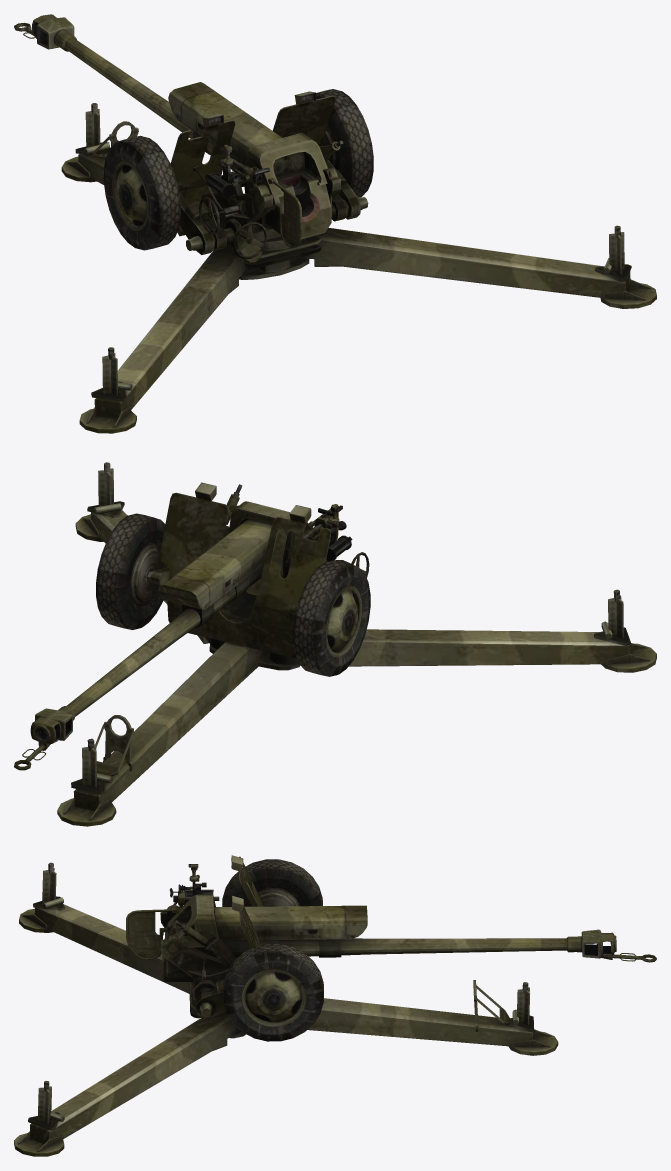
3 renders of one model, top to bottom at view 1: azimuth 30°, elevation 25°; view 2: azimuth 150°, elevation 25°; view 3: azimuth 270°, elevation 25°, orthographic. The views are drawn at different scales.
Parts seen in each view (by area): view 1: Object_2; view 2: Object_2; view 3: Object_2.
Part boxes in pixels (x1=…): Object_2: x1=14, y1=14, x2=656, y2=433; Object_2: x1=14, y1=462, x2=656, y2=826; Object_2: x1=14, y1=855, x2=656, y2=1156.
Bounding box in the file's own units: 24.84 × 8.12 × 27.47.
Materials: 1 (1 with a texture image).
